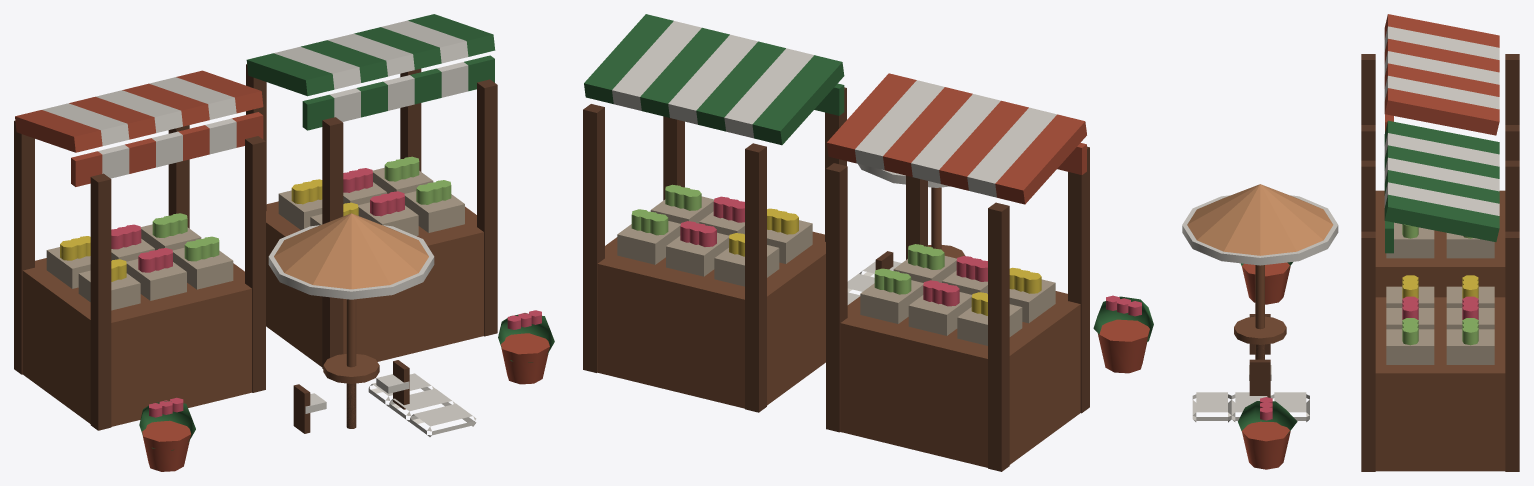
The model's file is market.glb.
The picture shows the model from 3 angles, left to right: view 1: azimuth 30°, elevation 25°; view 2: azimuth 150°, elevation 25°; view 3: azimuth 270°, elevation 25°; orthographic projection. The views are drawn at different scales.
Parts seen in each view (by area): view 1: market; view 2: market; view 3: market.
Part boxes in pixels (bbox=[...]): market: bbox=[14, 14, 554, 471]; market: bbox=[583, 14, 1153, 471]; market: bbox=[1182, 14, 1519, 471].
Size of the model in its own units: 0.86 by 0.5717 by 0.6359.
